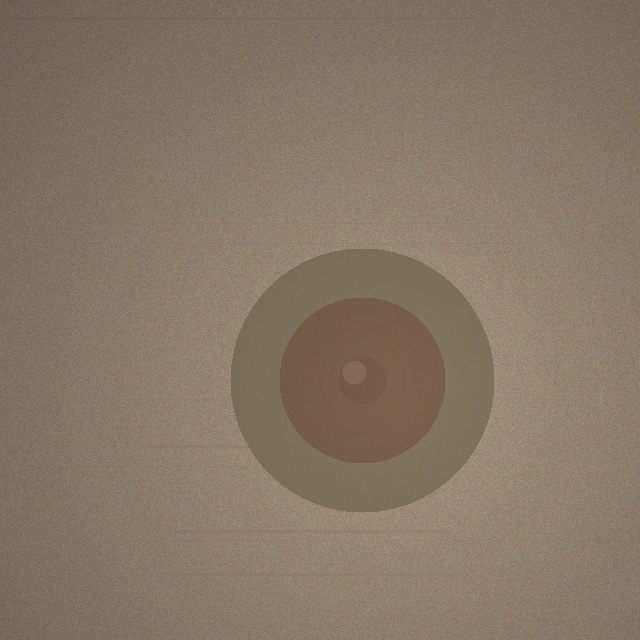good: (230, 248, 494, 512)
